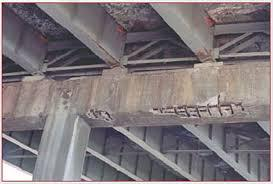spalling: (86, 95, 245, 121)
